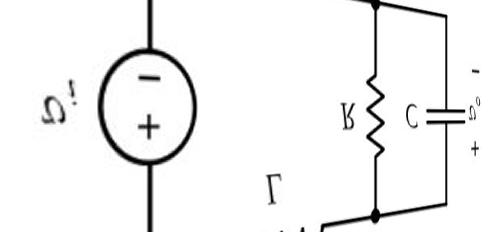resistor: (353, 62, 397, 165)
